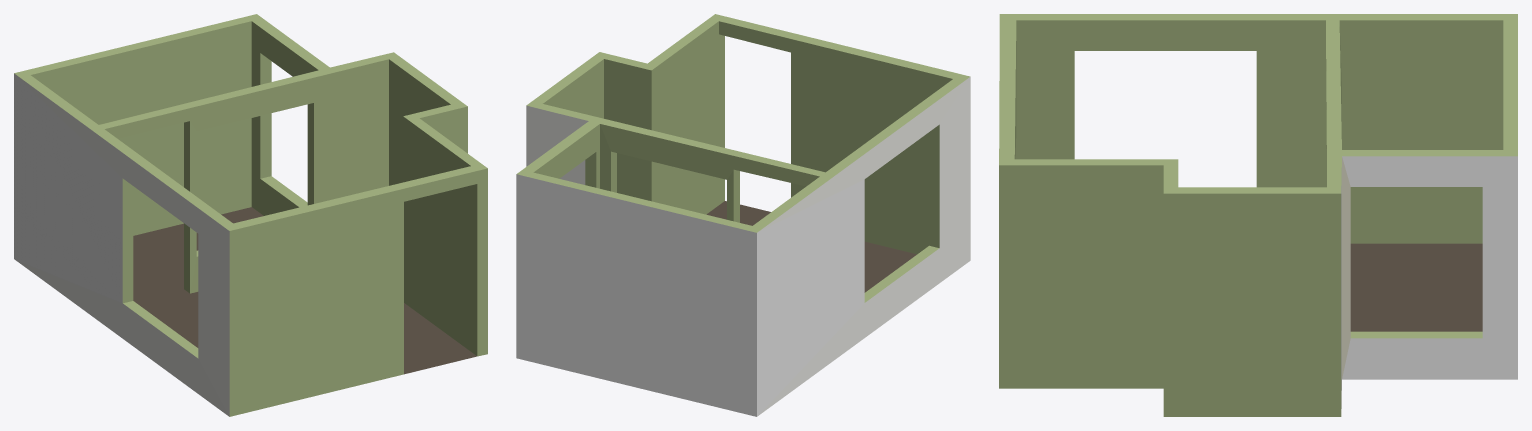
Rendered from EscenaC2.fbx.
3 renders of one model, left to right at view 1: azimuth 30°, elevation 25°; view 2: azimuth 150°, elevation 25°; view 3: azimuth 270°, elevation 25°, orthographic. The views are drawn at different scales.
Parts seen in each view (by area): view 1: Cube.013; view 2: Cube.013; view 3: Cube.013.
Part boxes in pixels (box(x1,y1,x2,y2)): Cube.013: box(14, 14, 487, 416); Cube.013: box(516, 14, 970, 416); Cube.013: box(999, 14, 1517, 416).
Size of the model in its own units: 5.14 by 2.98 by 6.28.
